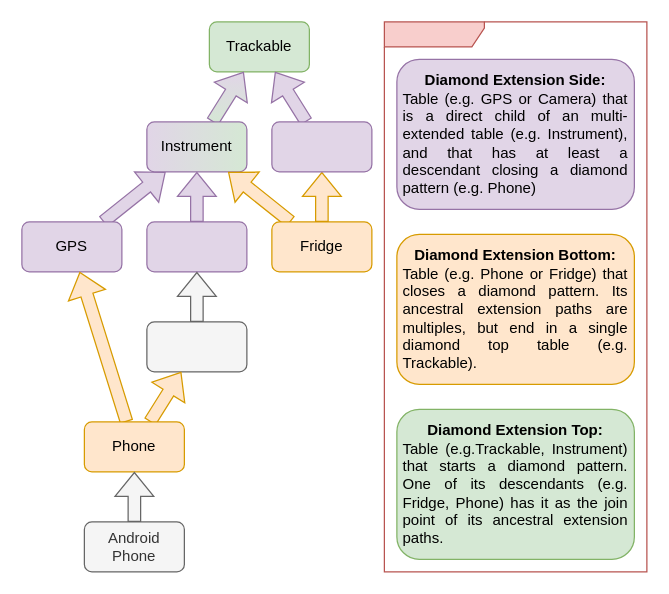
This 669x594 diagram has some shape labels left out. The box of each missing label's shape, as (x1, y1, x2, y2) in pixels:
Camera: (146, 221, 247, 272)
Container: (271, 121, 372, 172)
Legend: (383, 21, 647, 572)
Video Camera: (146, 321, 247, 372)
